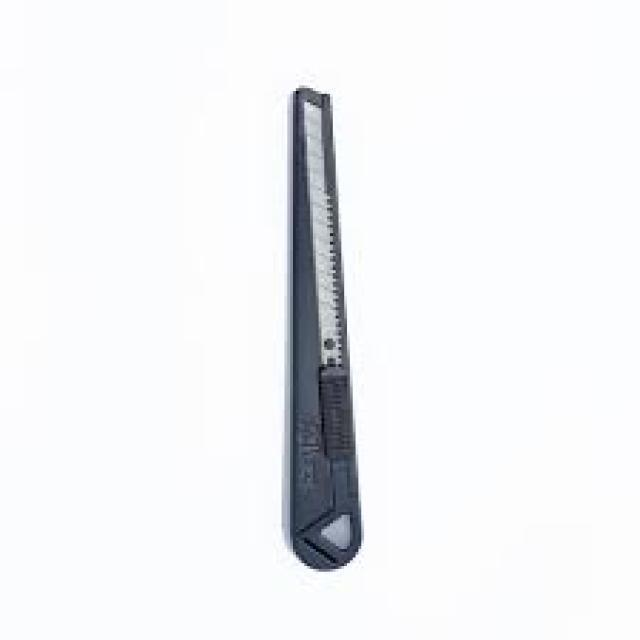cutter: (278, 74, 382, 576)
